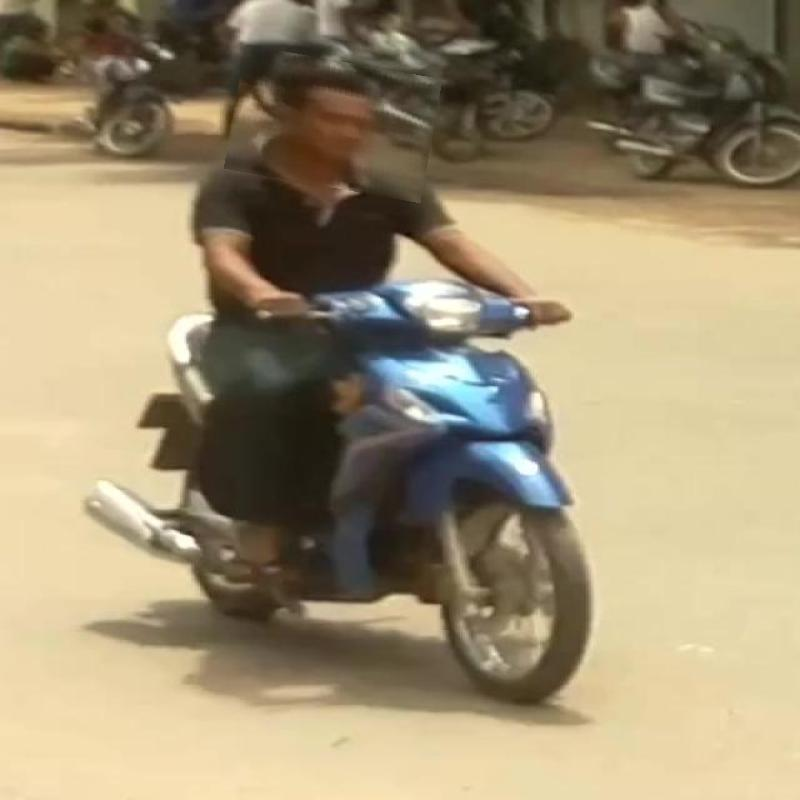nohelmet: (228, 54, 438, 196)
